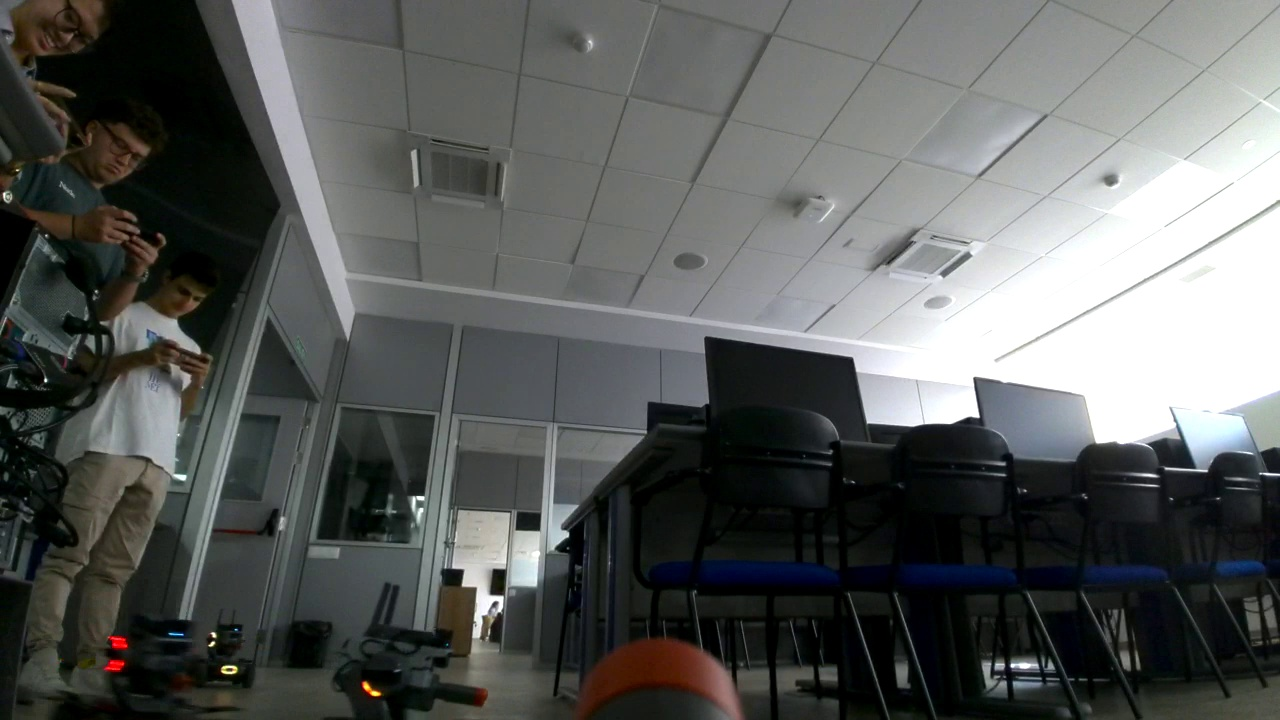robot: (323, 580, 488, 720), (99, 612, 202, 720), (192, 608, 255, 685)
